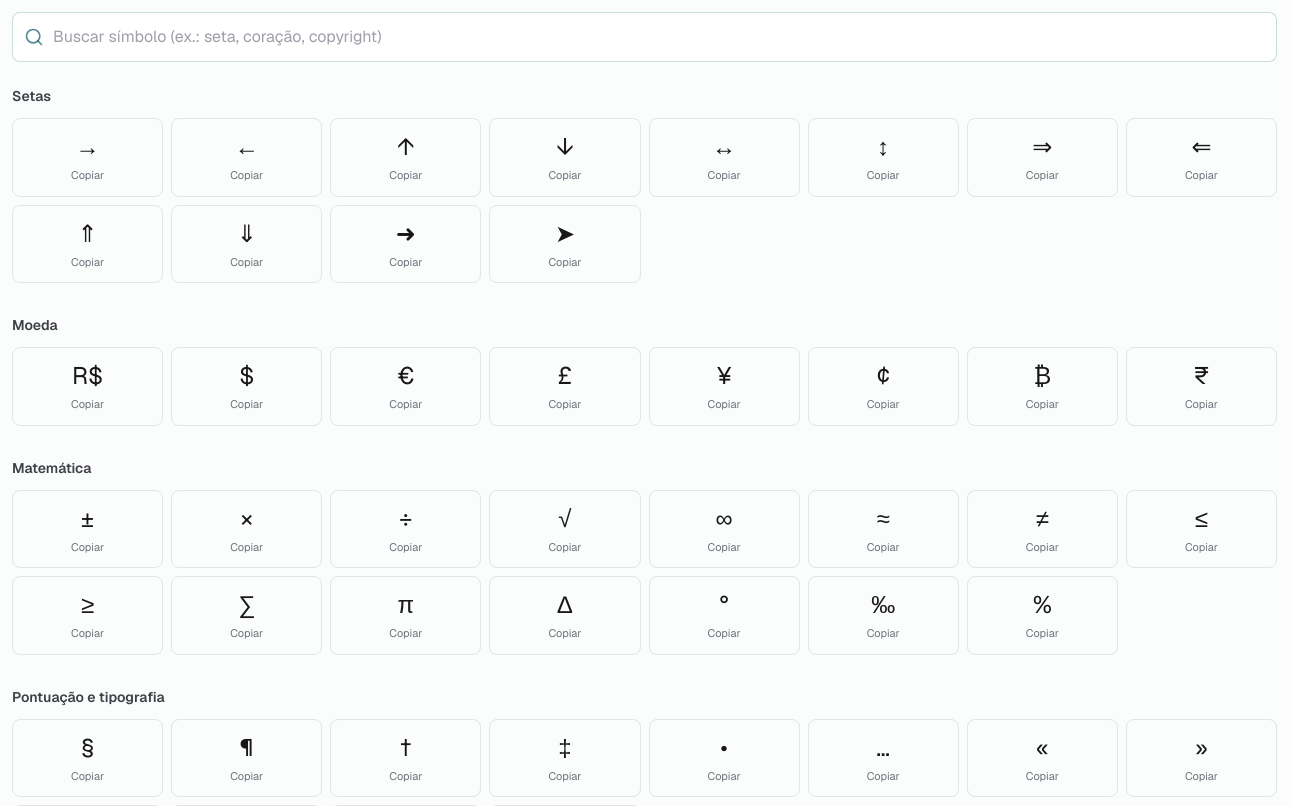
Scenario: SymbolPickerTool › mostra mensagem quando a busca não encontra nada
Type "xyzxyzxyz-sem-correspondencia" into the search field with placeholder "Buscar símbolo (ex.: seta, coração, copyright)" at (644, 37), box [12,12,1277,62]
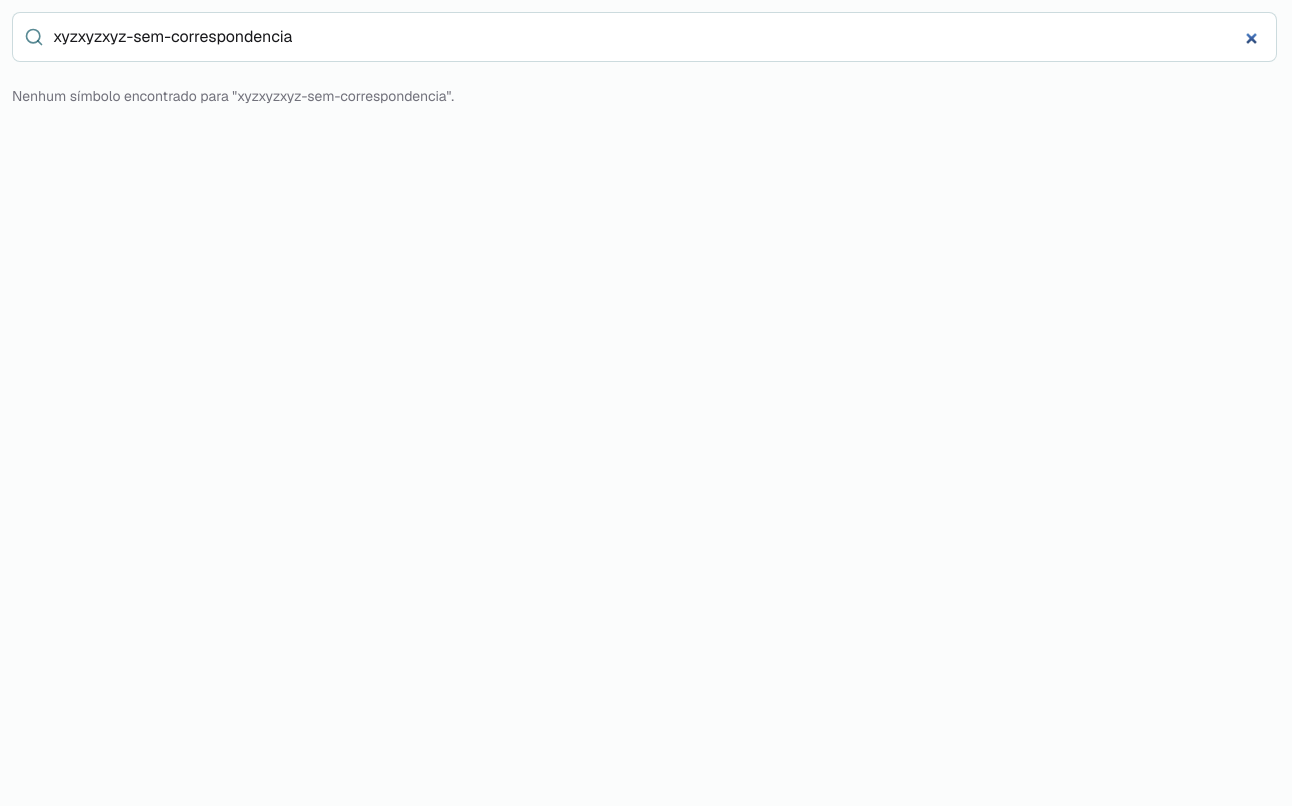
Expected: the text "Nenhum símbolo encontrado" is shown, [12,87,237,105]
